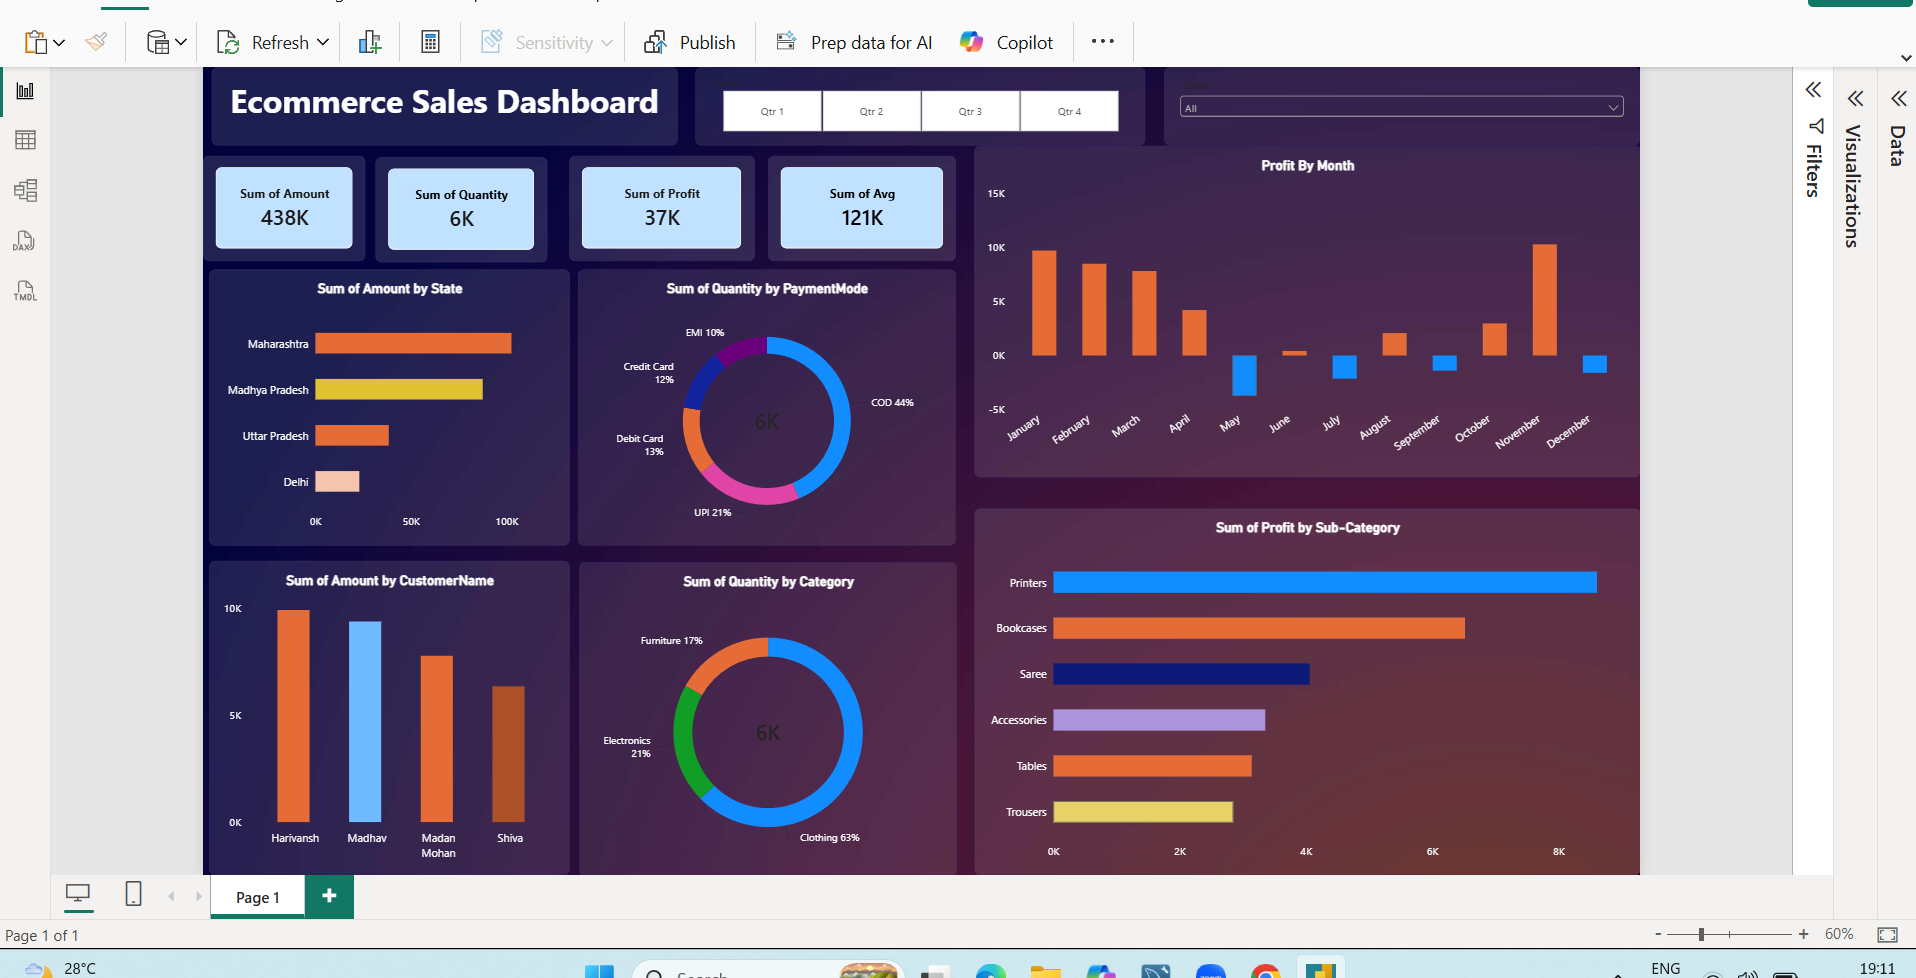

The page's visual inventory and layout, read from the dashboard file:
{"tool":"powerbi","page":{"name":"Page 1","canvas":[1920,1080],"ordinal":0},"visuals":[{"type":"textbox","box":[10.9,0,622.5,105],"z":0},{"type":"columnChart","title":"Profit By Month","fields":{"Category":["Orders.Order Date.Variation.Date Hierarchy.Month"],"Y":["Sum(Details.Profit)"]},"box":[1029.7,105,890.4,443.4],"z":1000},{"type":"barChart","fields":{"Category":["Details.Sub-Category"],"Y":["Sum(Details.Profit)"]},"box":[1029.7,589.9,890.4,490.4],"z":2000},{"type":"donutChart","fields":{"Category":["Details.Category"],"Y":["Sum(Details.Quantity)"]},"box":[502.6,661.2,504.9,419.8],"z":3000},{"type":"donutChart","fields":{"Category":["Details.PaymentMode"],"Y":["Sum(Details.Quantity)"]},"box":[500.9,270.5,504.9,369.2],"z":4000},{"type":"cardVisual","fields":{"Data":["Sum(Details.Amount)"]},"box":[0,118.6,217.2,141.2],"z":5000},{"type":"cardVisual","fields":{"Data":["Sum(Details.Quantity)"]},"box":[230.4,120.2,229.8,141.2],"z":6000},{"type":"cardVisual","fields":{"Data":["Sum(Details.Profit)"]},"box":[489.2,118.6,247.9,141.2],"z":7000},{"type":"cardVisual","fields":{"Data":["Sum(Details.Avg)"]},"box":[754.7,118.6,251.5,141.2],"z":8000},{"type":"clusteredBarChart","fields":{"Category":["Orders.State"],"Y":["Sum(Details.Amount)"]},"box":[8.3,270.5,481.6,368.4],"z":9000},{"type":"columnChart","fields":{"Category":["Orders.CustomerName"],"Y":["Sum(Details.Amount)"]},"box":[8.3,659.6,481.6,419.9],"z":10000},{"type":"slicer","fields":{"Values":["Orders.Order Date.Variation.Date Hierarchy.Quarter"]},"box":[658.7,0,600.8,105],"z":11000},{"type":"slicer","fields":{"Values":["Orders.State"]},"box":[1284.9,0,635.2,105],"z":12000}]}

Visuals, with their boxes on the page's 1920x1080 design canvas (x1, y1, x2, y2). These are canvas units, not pixel positions in the 1916x978 screenshot, which may show the page scaled, cropped or inside an application window:
textbox: left=11, top=0, right=633, bottom=105
"Profit By Month" columnChart: left=1030, top=105, right=1920, bottom=548
barChart - Details.Sub-Category x Sum(Details.Profit): left=1030, top=590, right=1920, bottom=1080
donutChart - Details.Category x Sum(Details.Quantity): left=503, top=661, right=1008, bottom=1081
donutChart - Details.PaymentMode x Sum(Details.Quantity): left=501, top=270, right=1006, bottom=640
cardVisual - Sum(Details.Amount): left=0, top=119, right=217, bottom=260
cardVisual - Sum(Details.Quantity): left=230, top=120, right=460, bottom=261
cardVisual - Sum(Details.Profit): left=489, top=119, right=737, bottom=260
cardVisual - Sum(Details.Avg): left=755, top=119, right=1006, bottom=260
clusteredBarChart - Orders.State x Sum(Details.Amount): left=8, top=270, right=490, bottom=639
columnChart - Orders.CustomerName x Sum(Details.Amount): left=8, top=660, right=490, bottom=1080
slicer - Orders.Order Date.Variation.Date Hierarchy.Quarter: left=659, top=0, right=1260, bottom=105
slicer - Orders.State: left=1285, top=0, right=1920, bottom=105
